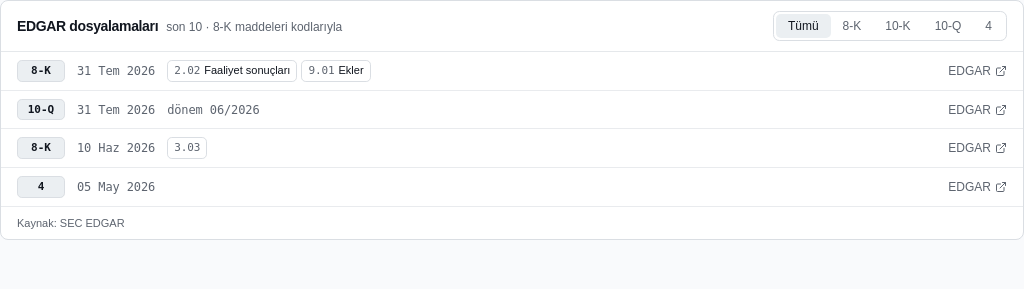
it: Filings › keeps the loaded list when a filter fails to load, and says so
Expected: the heading "EDGAR dosyalamaları" is shown, [17,16,158,36]
Click the button "4" at x=989, y=26, box [973,14,1004,38]
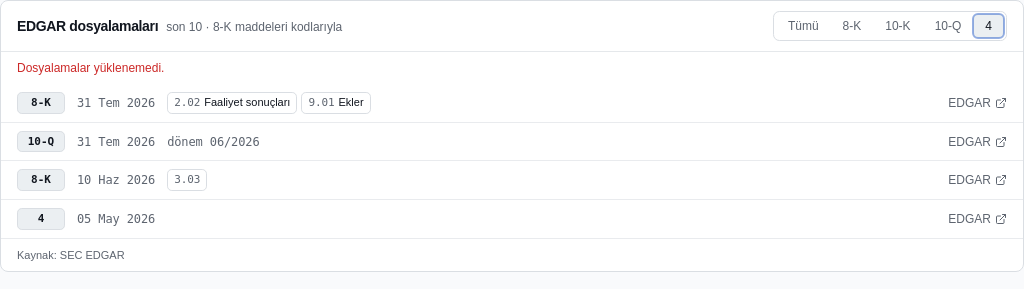
Expected: the number of list items is 4, [1,84,1023,123]; [1,123,1023,161]; [1,161,1023,200]; [17,208,1007,230]
Expected: the text "Dosyalamalar yüklenemedi." is shown, [17,61,164,75]
